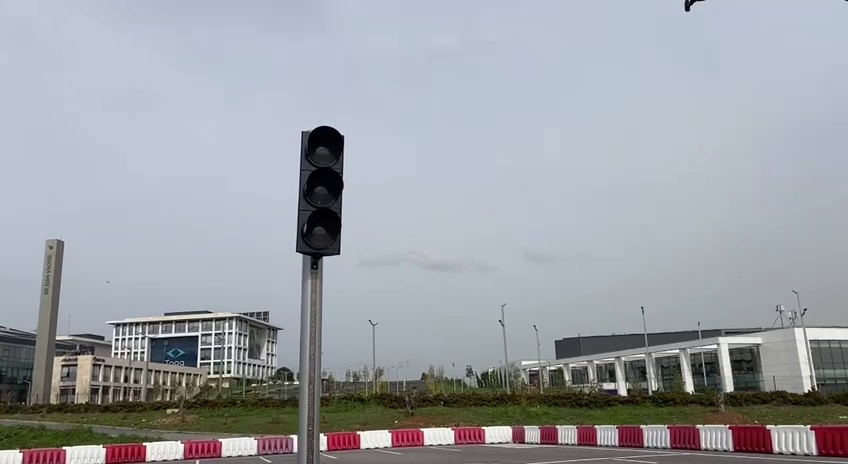trafficLight: (290, 120, 349, 263)
